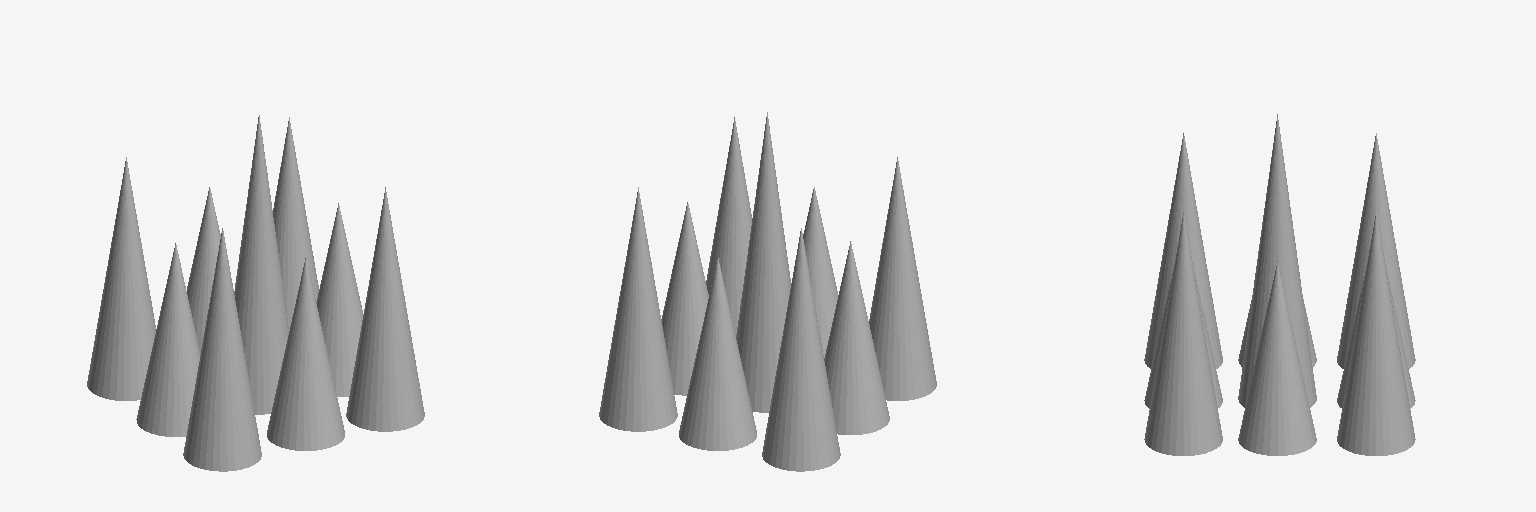
Rendered from spikes.obj.
3 views of the same model, side by side, from view 1: azimuth 30°, elevation 25°; view 2: azimuth 150°, elevation 25°; view 3: azimuth 270°, elevation 25° (orthographic).
Parts seen in each view (by area): view 1: Cone.005, Cone.008, Cone.007, Cone, Cone.002, Cone.006, Cone.003, Cone.004, Cone.001; view 2: Cone.004, Cone.007, Cone, Cone.008, Cone.001, Cone.006, Cone.003, Cone.005, Cone.002; view 3: Cone.004, Cone.005, Cone.003, Cone, Cone.007, Cone.008, Cone.001, Cone.002.
Part boxes in pixels (x1,y1,x2,y2): Cone.005: (346, 187, 424, 431); Cone.008: (183, 228, 261, 471); Cone.007: (87, 157, 155, 400); Cone: (234, 115, 288, 414); Cone.002: (267, 258, 344, 450); Cone.006: (136, 243, 200, 436); Cone.003: (316, 203, 363, 396); Cone.004: (273, 117, 318, 330); Cone.001: (187, 187, 220, 353); Cone.004: (599, 187, 677, 431); Cone.007: (762, 228, 840, 471); Cone: (736, 112, 790, 412); Cone.008: (869, 157, 936, 400); Cone.001: (679, 258, 756, 450); Cone.006: (824, 241, 889, 434); Cone.003: (661, 202, 708, 395); Cone.005: (706, 117, 751, 334); Cone.002: (803, 187, 837, 357); Cone.004: (1337, 213, 1415, 455); Cone.005: (1144, 213, 1222, 455); Cone.003: (1238, 261, 1316, 455); Cone: (1238, 114, 1316, 407); Cone.007: (1337, 133, 1415, 368); Cone.008: (1144, 133, 1222, 368); Cone.001: (1337, 264, 1415, 408); Cone.002: (1144, 264, 1222, 408).
Bounding box in the file's own units: 0.6776 × 0.8063 × 0.6888.